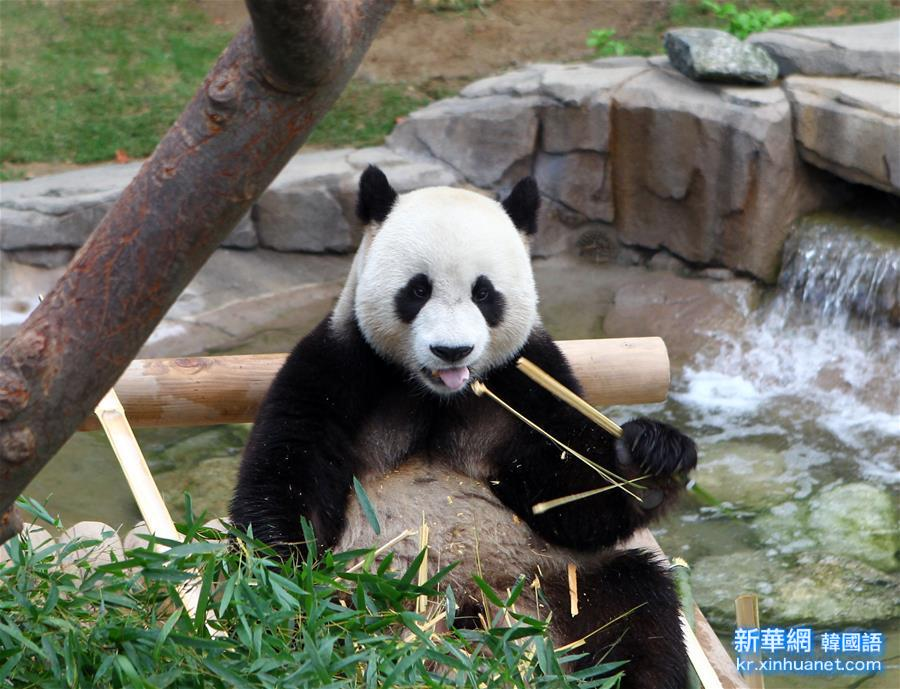panda: (232, 167, 732, 643)
